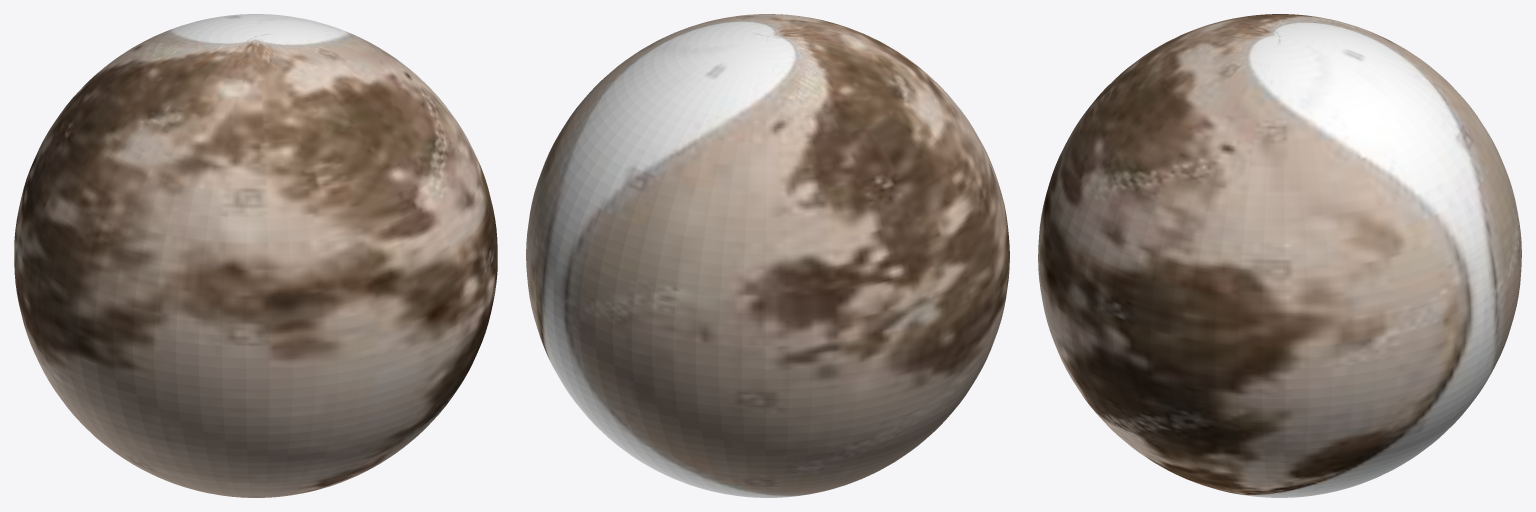
3 views of the same model, side by side, from view 1: azimuth 30°, elevation 25°; view 2: azimuth 150°, elevation 25°; view 3: azimuth 270°, elevation 25° (orthographic).
Bounding box in the file's own units: 4 × 4 × 4.
1 material, 1 textured.
